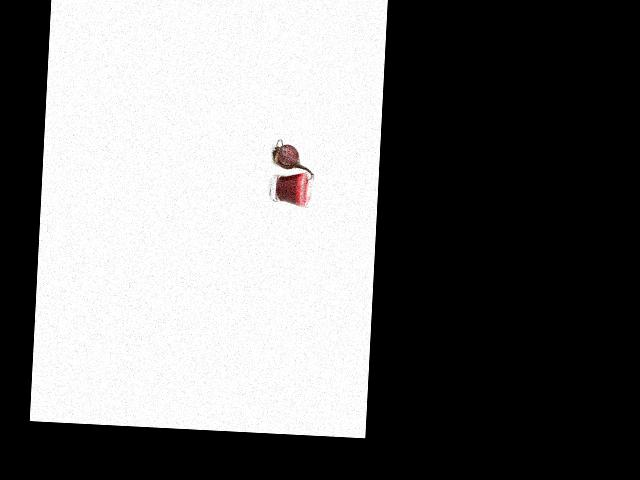beet: (270, 139, 315, 185)
